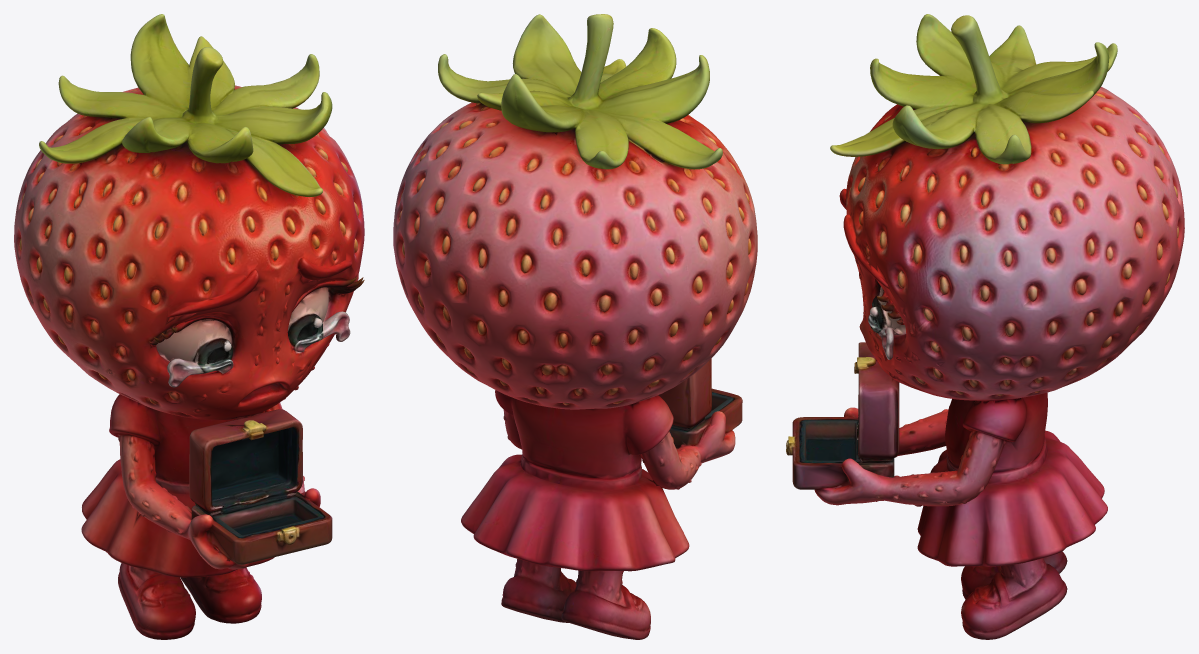
Rendered from strawberlina.glb.
3 views of the same model, side by side, from view 1: azimuth 30°, elevation 25°; view 2: azimuth 150°, elevation 25°; view 3: azimuth 270°, elevation 25° (orthographic). The views are drawn at different scales.
Parts seen in each view (by area): view 1: tripo_node_b33b9343-65f0-459f-b6d3-8de4a23d0aab; view 2: tripo_node_b33b9343-65f0-459f-b6d3-8de4a23d0aab; view 3: tripo_node_b33b9343-65f0-459f-b6d3-8de4a23d0aab.
Part boxes in pixels (x1=…): tripo_node_b33b9343-65f0-459f-b6d3-8de4a23d0aab: x1=14, y1=14, x2=364, y2=639; tripo_node_b33b9343-65f0-459f-b6d3-8de4a23d0aab: x1=393, y1=14, x2=757, y2=639; tripo_node_b33b9343-65f0-459f-b6d3-8de4a23d0aab: x1=786, y1=14, x2=1184, y2=639.
Bounding box in the file's own units: 0.5406 × 0.9801 × 0.5953.
Materials: 1 (1 with a texture image).
